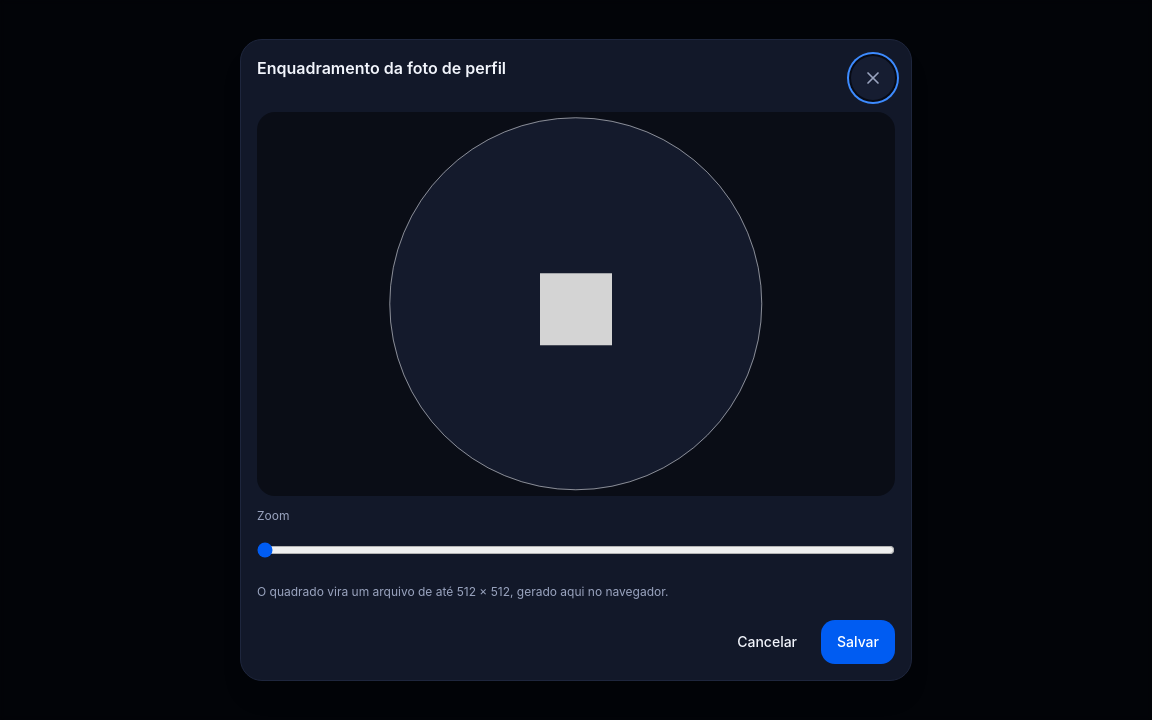
Test case: ProfilePhotoCropper › o canvas contaminado tem aviso próprio (CORS do storage)
The width and height of the screenshot is (1152, 720).
Click the button with test id "crop-save". click: (858, 642)
box: 821,620 -> 895,664
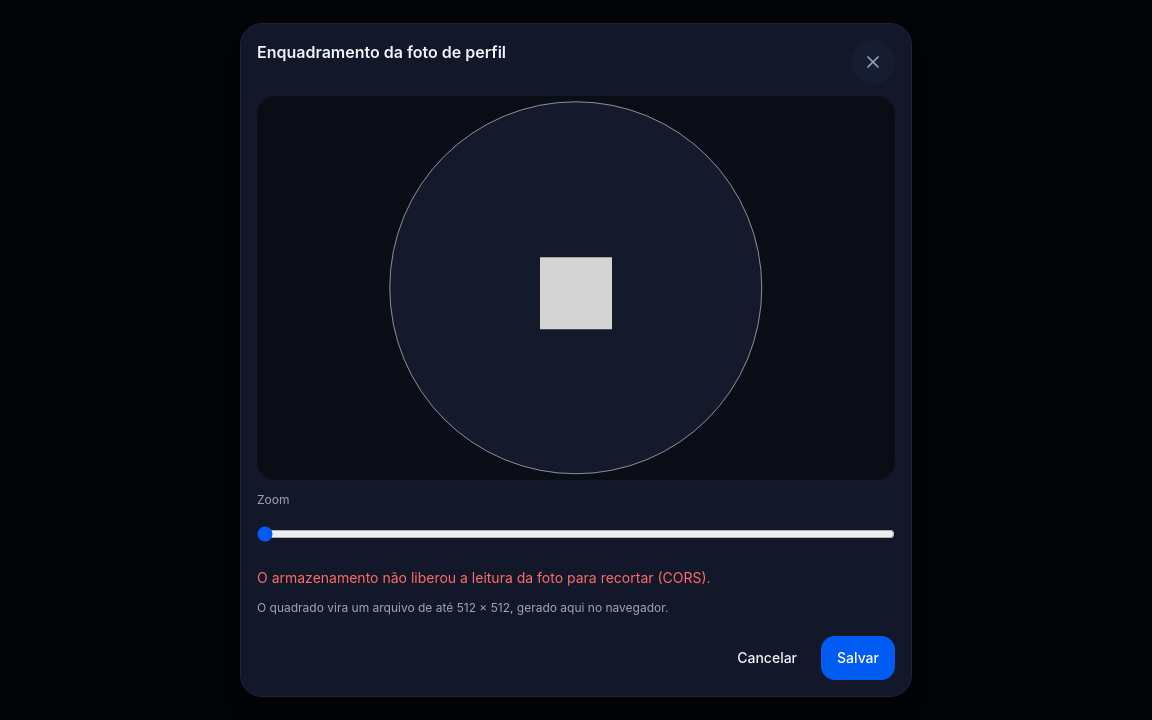
Expected: the message with test id "crop-message" shows "CORS", 257,569 -> 711,586
